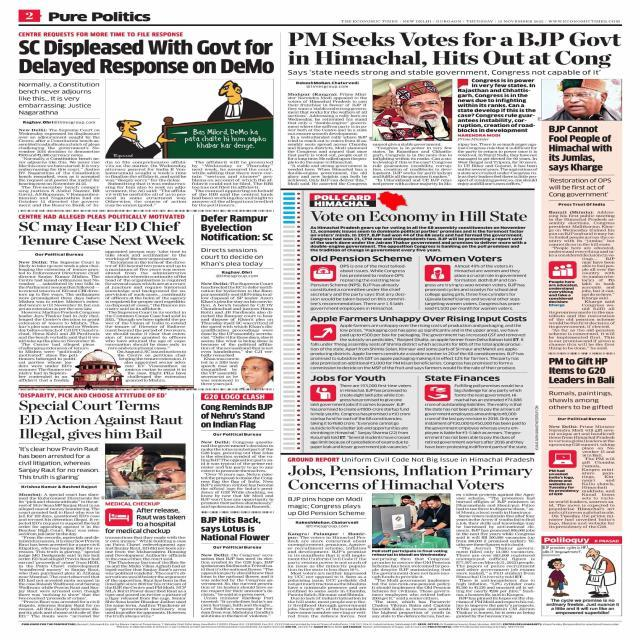Article: (14, 30, 277, 208), (283, 456, 537, 620), (16, 392, 190, 620), (15, 212, 191, 384), (284, 78, 538, 188), (540, 78, 625, 351), (198, 212, 278, 388), (546, 356, 620, 530), (307, 314, 529, 371), (306, 208, 532, 253), (195, 514, 278, 620), (197, 402, 276, 510), (306, 372, 414, 450), (422, 373, 530, 451), (420, 254, 531, 312), (308, 254, 414, 312)
Body: (17, 492, 101, 618), (456, 493, 536, 618), (310, 324, 526, 370), (105, 250, 186, 350), (287, 92, 368, 186), (18, 260, 102, 350), (287, 531, 367, 618), (424, 384, 528, 449), (105, 536, 187, 618), (18, 128, 102, 207), (309, 384, 412, 448), (310, 226, 527, 252), (200, 282, 274, 354), (200, 440, 274, 509), (424, 264, 528, 311), (200, 554, 274, 618), (372, 558, 449, 618), (310, 264, 408, 311), (105, 160, 187, 208), (192, 160, 274, 208), (372, 143, 453, 186), (458, 142, 538, 185), (548, 210, 616, 256), (549, 312, 615, 349), (117, 350, 187, 382), (18, 350, 80, 382), (548, 501, 616, 528), (582, 446, 616, 499), (582, 257, 616, 310), (548, 424, 616, 446), (200, 354, 240, 386)
Date: (466, 20, 544, 23)
Heading: (288, 32, 621, 69), (18, 40, 276, 76), (20, 399, 184, 441), (287, 464, 534, 490), (18, 220, 186, 246), (310, 210, 527, 224), (548, 125, 612, 172), (200, 214, 275, 242), (200, 403, 274, 428), (200, 516, 270, 541), (548, 358, 616, 383), (309, 316, 527, 323), (310, 255, 413, 262), (310, 374, 386, 382), (424, 255, 502, 262), (426, 375, 500, 381)
Highlights: (456, 78, 536, 132), (18, 81, 101, 116), (18, 446, 100, 481), (104, 501, 187, 534), (288, 70, 602, 76), (288, 496, 367, 516), (548, 390, 615, 410), (200, 248, 266, 268), (548, 178, 612, 198), (548, 469, 580, 496), (548, 280, 579, 304)
Image: (104, 79, 274, 158), (541, 546, 622, 616), (373, 79, 453, 141), (106, 444, 186, 499), (374, 493, 451, 548), (541, 80, 622, 120), (240, 355, 276, 387), (82, 350, 114, 385)
Name: (46, 12, 152, 22), (340, 20, 398, 24)
